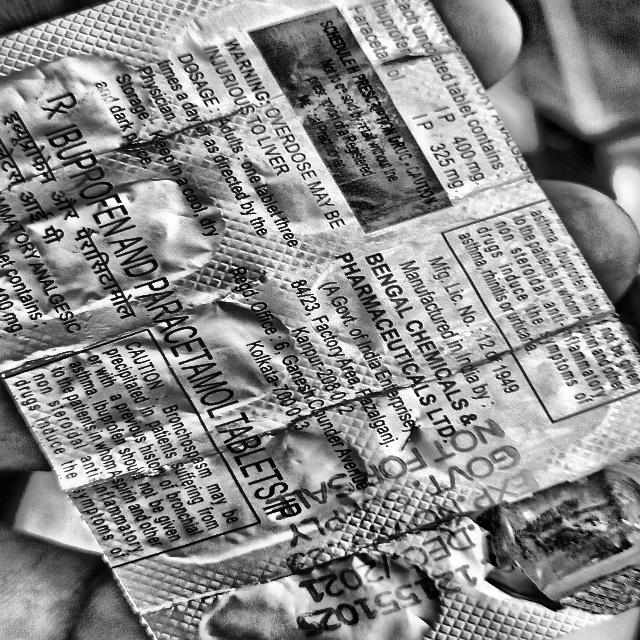IBUPROFEN AND PARACETAMOL TABLETS: (35, 119, 321, 517)
